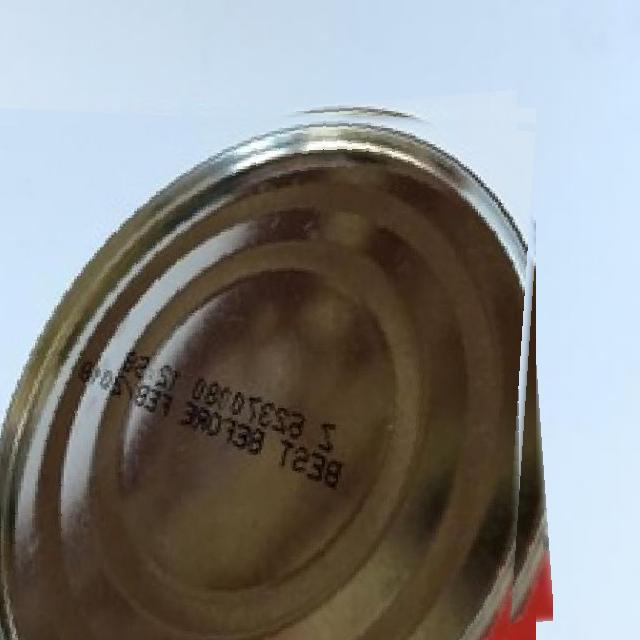recyclable: (0, 99, 544, 640)
